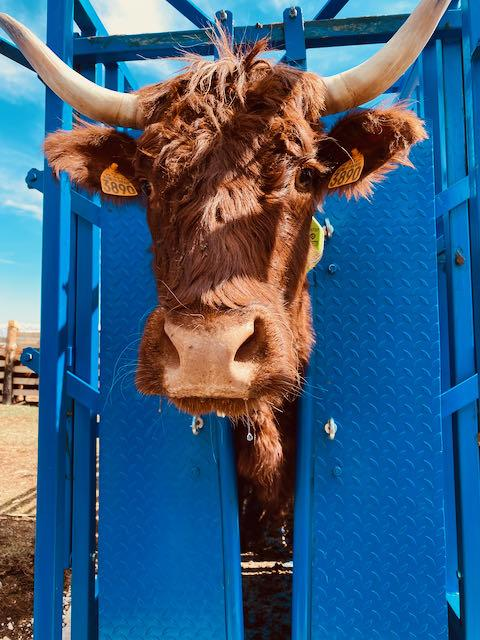muzzles: (124, 299, 309, 415)
